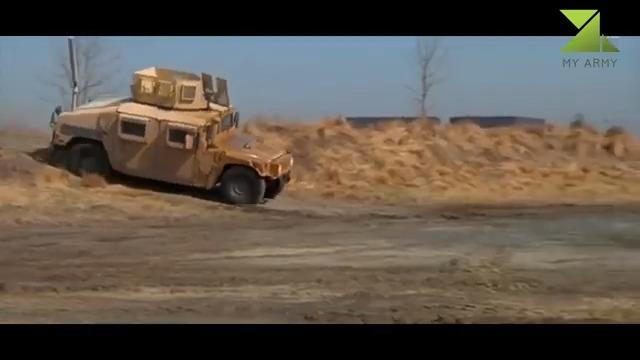MIL_HMMWV: (52, 93, 296, 204)
